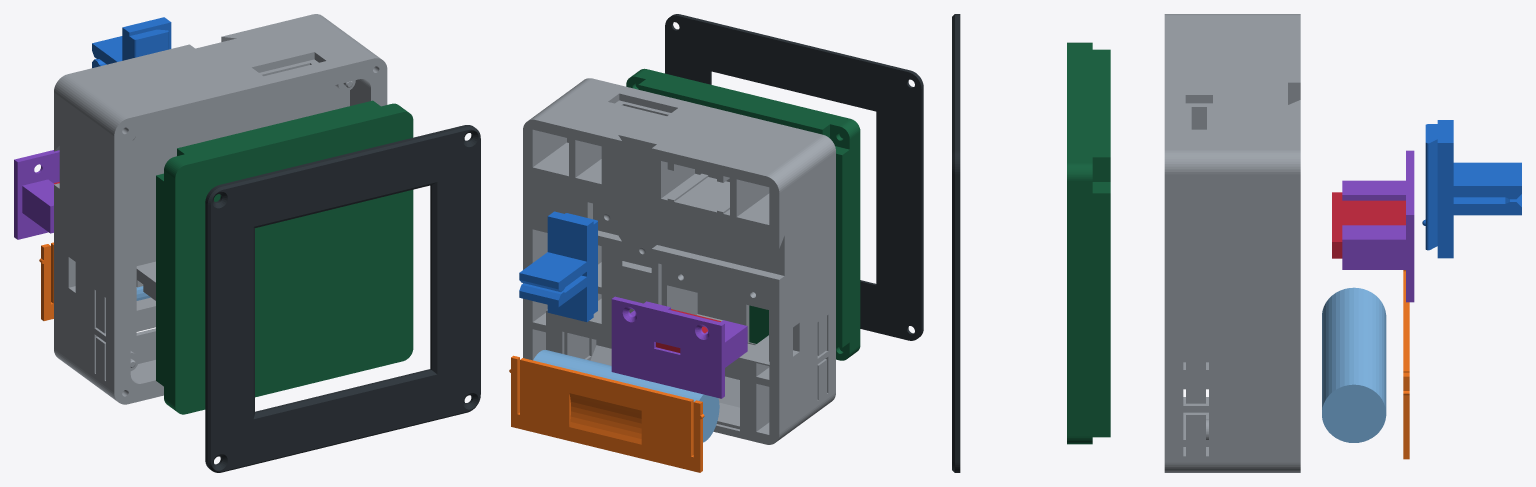
Rendered from assembly_exploded.glb.
The picture shows the model from 3 angles, left to right: view 1: azimuth 30°, elevation 25°; view 2: azimuth 150°, elevation 25°; view 3: azimuth 270°, elevation 25°; orthographic projection. The views are drawn at different scales.
Visible parts, largest first — view 1: body, board_dummy, front_bezel, charger_lid, vent_clip, battery_door; view 2: body, front_bezel, battery_door, board_dummy, charger_lid, vent_clip, cell_dummy; view 3: body, board_dummy, cell_dummy, vent_clip, charger_lid, front_bezel, charger_dummy, battery_door.
Boxes of the visible parts, <box> form: body: <box>54,14,387,404</box>; board_dummy: <box>156,100,413,414</box>; front_bezel: <box>205,125,480,472</box>; charger_lid: <box>14,150,59,239</box>; vent_clip: <box>92,17,171,67</box>; battery_door: <box>39,242,53,320</box>; body: <box>523,78,835,444</box>; front_bezel: <box>665,14,923,340</box>; battery_door: <box>509,355,704,472</box>; board_dummy: <box>626,68,860,360</box>; charger_lid: <box>611,296,747,398</box>; vent_clip: <box>519,211,597,321</box>; cell_dummy: <box>533,350,719,442</box>; body: <box>1164,14,1300,472</box>; board_dummy: <box>1067,42,1110,444</box>; cell_dummy: <box>1322,287,1386,442</box>; vent_clip: <box>1422,120,1521,258</box>; charger_lid: <box>1342,150,1414,302</box>; front_bezel: <box>952,14,960,472</box>; charger_dummy: <box>1332,192,1405,258</box>; battery_door: <box>1403,270,1409,459</box>.
Size of the model in its own units: 0.078 by 0.078 by 0.1254.
